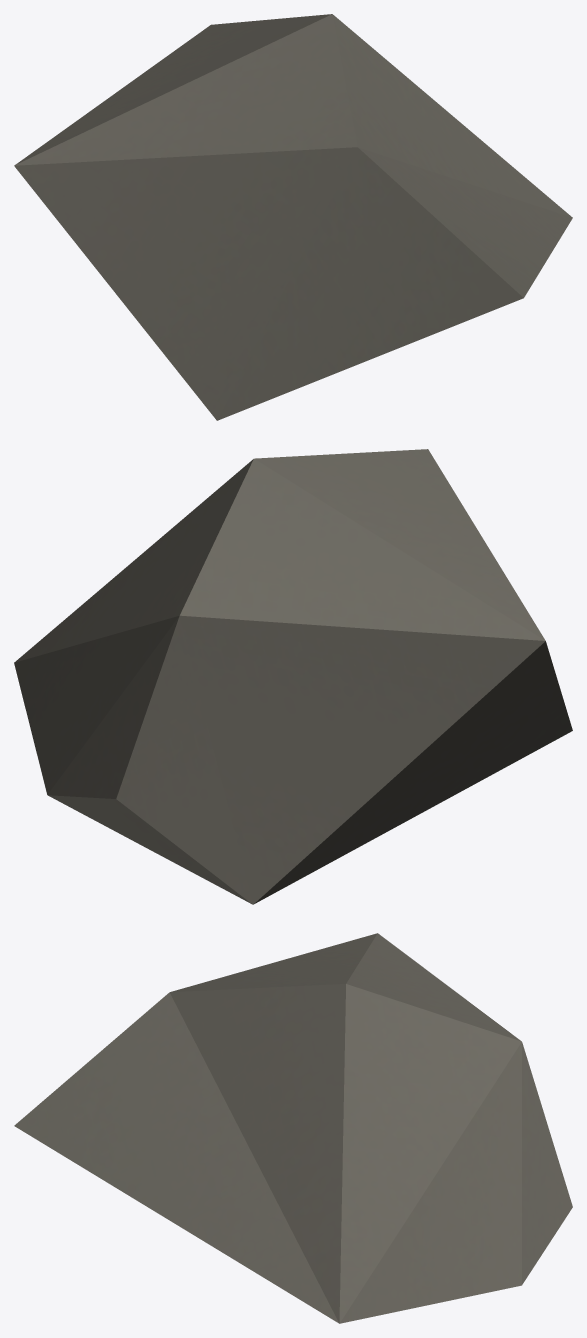
File: Rock_Single_1A.fbx
3 renders of one model, top to bottom at view 1: azimuth 30°, elevation 25°; view 2: azimuth 150°, elevation 25°; view 3: azimuth 270°, elevation 25°, orthographic. The views are drawn at different scales.
Parts seen in each view (by area): view 1: pSphere5; view 2: pSphere5; view 3: pSphere5.
Boxes of the visible parts, x1,y1,x2,y2 form: pSphere5: (14, 14, 572, 420); pSphere5: (14, 449, 572, 904); pSphere5: (14, 933, 572, 1323).
Size of the model in its own units: 55.52 by 32.98 by 55.04.
1 material, 1 textured.
